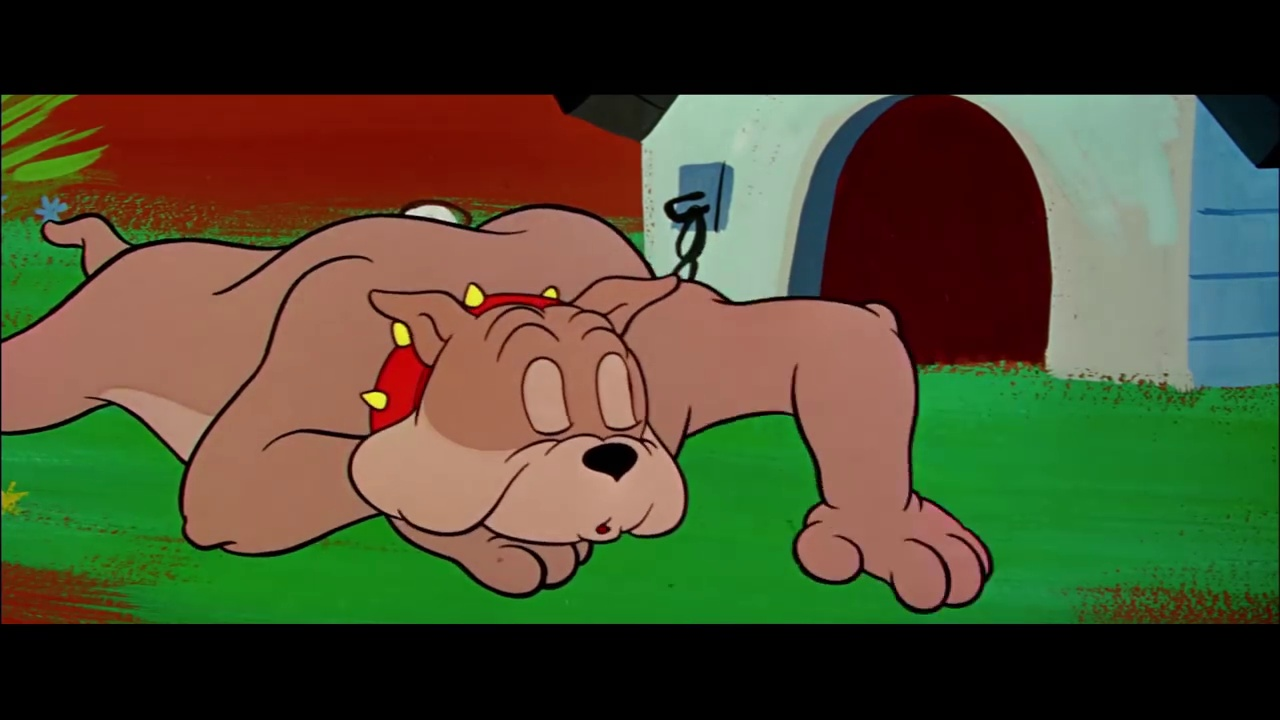spike: (339, 270, 695, 556)
